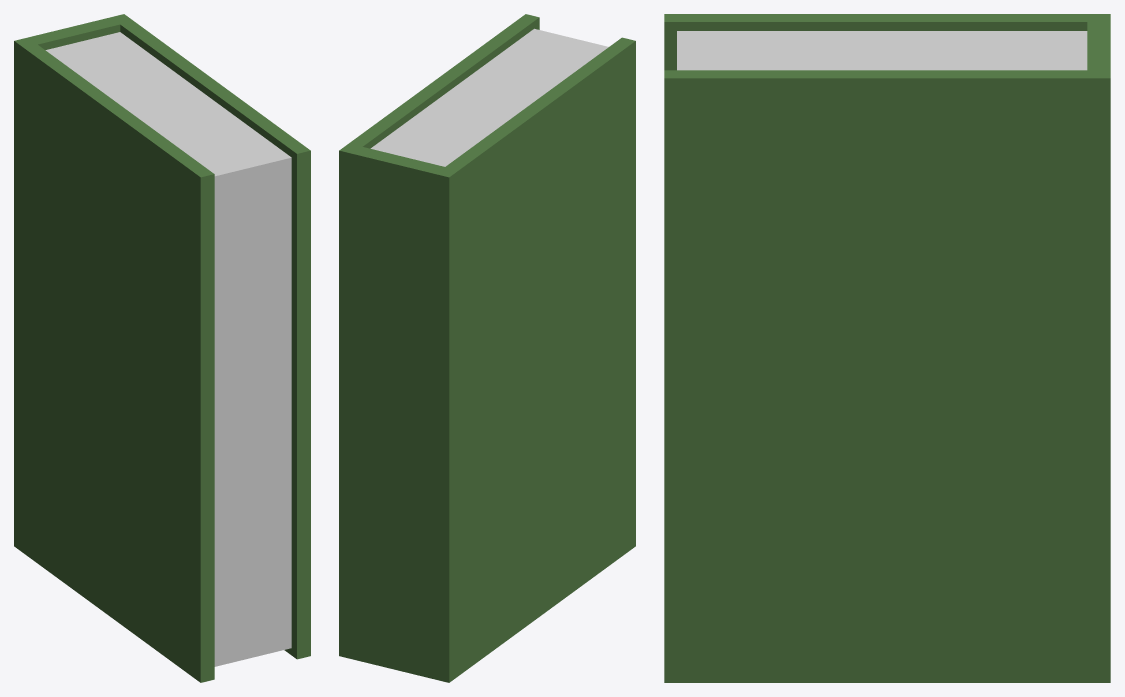
File: book_2.fbx
3 renders of one model, left to right at view 1: azimuth 30°, elevation 25°; view 2: azimuth 150°, elevation 25°; view 3: azimuth 270°, elevation 25°, orthographic. The views are drawn at different scales.
Parts seen in each view (by area): view 1: book_2; view 2: book_2; view 3: book_2.
Part boxes in pixels (<box>): book_2: <box>14,14,310,682</box>; book_2: <box>339,14,635,682</box>; book_2: <box>664,14,1110,682</box>.
Size of the model in its own units: 8.65 by 37.95 by 25.39.
